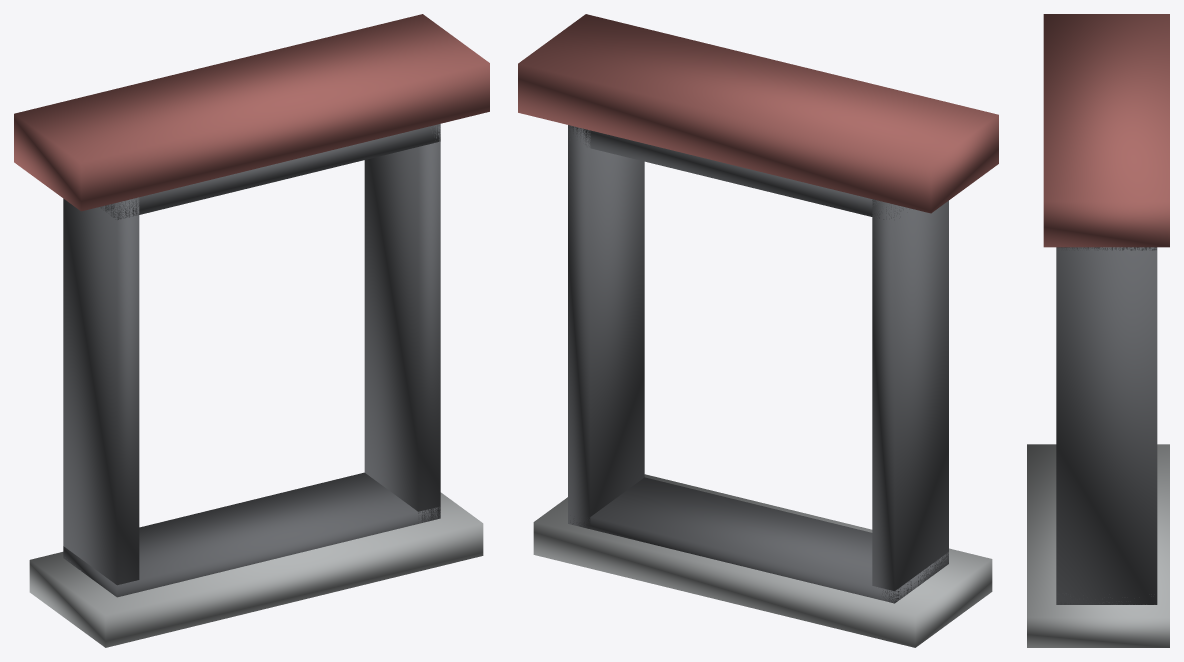
The model's file is egress_window_brick_w72_h90_s72_d24.glb.
The picture shows the model from 3 angles, left to right: view 1: azimuth 30°, elevation 25°; view 2: azimuth 150°, elevation 25°; view 3: azimuth 270°, elevation 25°; orthographic projection. The views are drawn at different scales.
Visible parts, largest first — view 1: world; view 2: world; view 3: world.
Boxes of the visible parts, left/top/right/bottom form: world: left=14, top=14, right=489, bottom=647; world: left=518, top=14, right=998, bottom=647; world: left=1027, top=14, right=1169, bottom=647.
Size of the model in its own units: 1.06 by 1.19 by 0.34.
